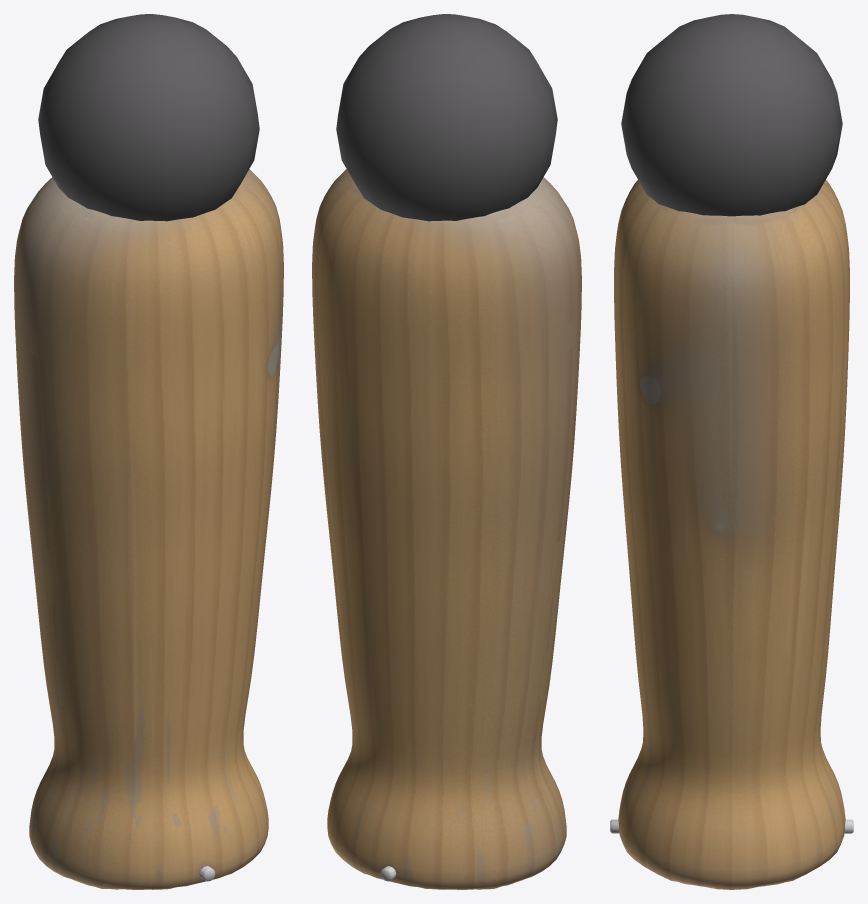
The model's file is UpperLeg_L.glb.
3 renders of one model, left to right at view 1: azimuth 30°, elevation 25°; view 2: azimuth 150°, elevation 25°; view 3: azimuth 270°, elevation 25°, orthographic.
Visible parts, largest first — view 1: UpperLeg_L, UpperLeg_L_Ball; view 2: UpperLeg_L, UpperLeg_L_Ball; view 3: UpperLeg_L, UpperLeg_L_Ball.
Part boxes in pixels (x1,y1,x2,y2): UpperLeg_L: (14, 169, 283, 889); UpperLeg_L_Ball: (38, 14, 259, 221); UpperLeg_L: (312, 169, 581, 889); UpperLeg_L_Ball: (336, 14, 557, 221); UpperLeg_L: (614, 180, 849, 889); UpperLeg_L_Ball: (621, 14, 842, 216).
Bounding box in the file's own units: 0.1509 × 0.4905 × 0.132.
3 materials, 1 textured.
